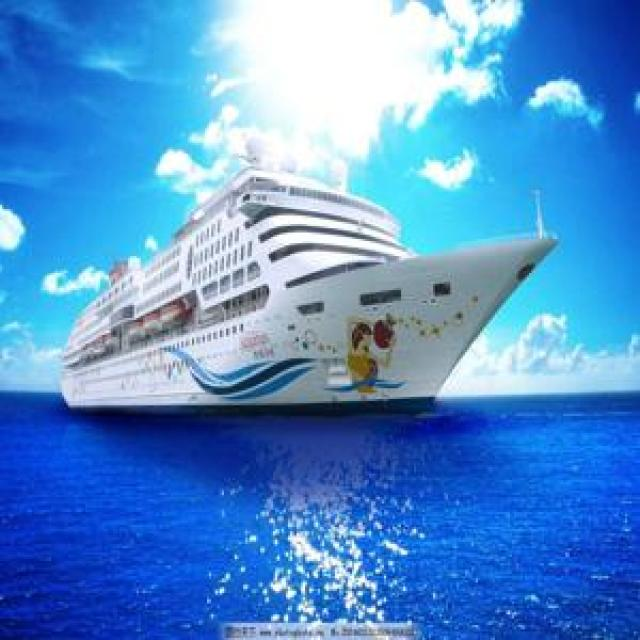passenger ship: (52, 149, 560, 420)
